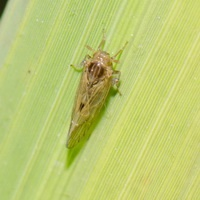insect: (66, 29, 127, 148)
